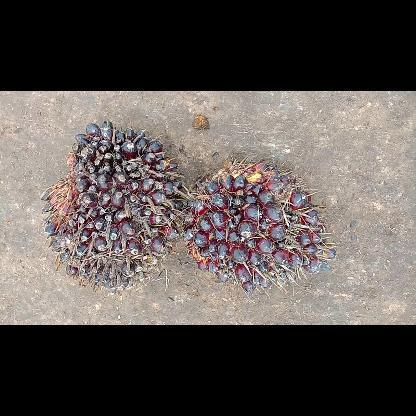TBS mentah: (44, 119, 184, 294), (188, 155, 338, 290)
